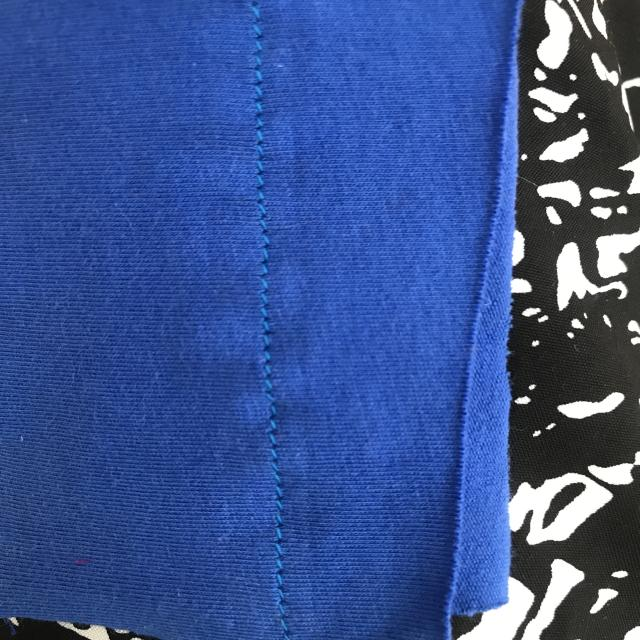good: (255, 295, 300, 591), (250, 61, 280, 269)
